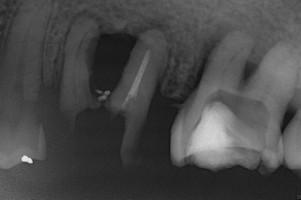Dental Caries: (64, 8, 173, 102), (184, 9, 294, 99)
